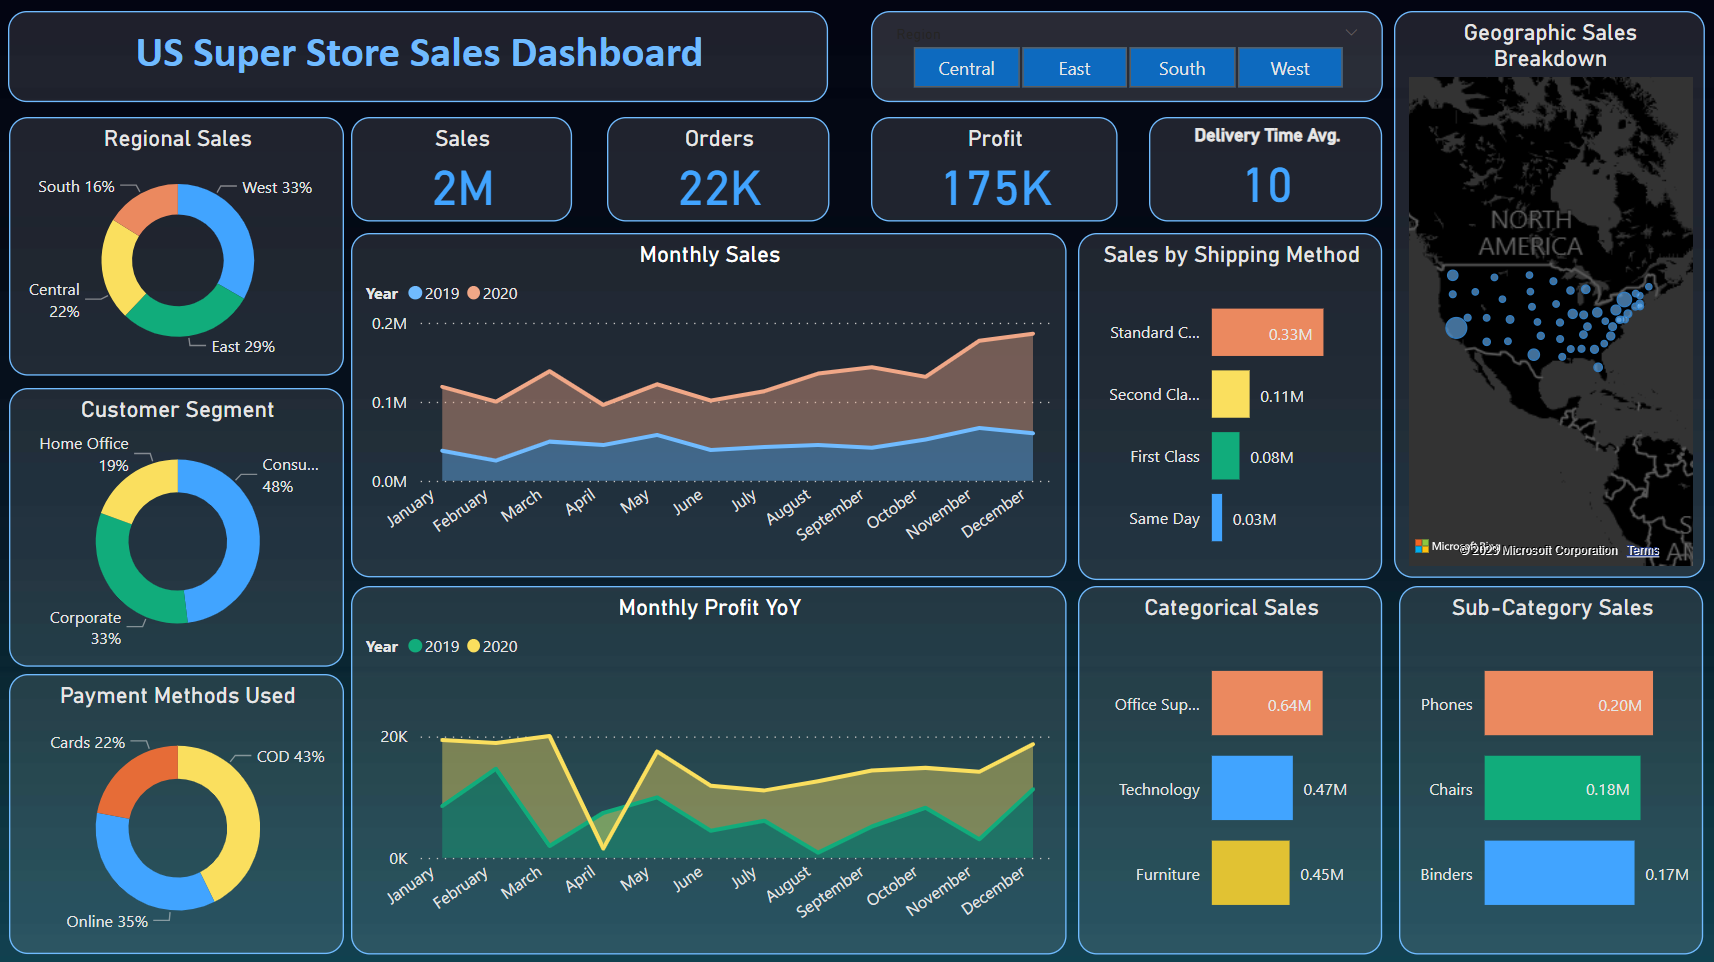

The page's visual inventory and layout, read from the dashboard file:
{"tool":"powerbi","page":{"name":"Page 1","canvas":[1280,720],"ordinal":0},"visuals":[{"type":"clusteredBarChart","title":"Categorical Sales","fields":{"Category":["SuperStore_Sales_Dataset.Category"],"Y":["Sum(SuperStore_Sales_Dataset.Sales)"]},"box":[805.4,438,227.3,274.6],"z":0},{"type":"clusteredBarChart","title":"Sub-Category Sales","fields":{"Category":["SuperStore_Sales_Dataset.Sub-Category"],"Y":["Sum(SuperStore_Sales_Dataset.Sales)"]},"box":[1045,438,227.3,274.6],"z":1000},{"type":"clusteredBarChart","title":"Sales by Shipping Method","fields":{"Category":["SuperStore_Sales_Dataset.Ship Mode"],"Y":["Sum(SuperStore_Sales_Dataset.Sales)"]},"box":[805.4,174.5,227.3,259.2],"z":2000},{"type":"stackedAreaChart","title":"Monthly Sales","fields":{"Y":["Sum(SuperStore_Sales_Dataset.Sales)"],"Category":["SuperStore_Sales_Dataset.Order Date.Variation.Date Hierarchy.Month"],"Series":["SuperStore_Sales_Dataset.Order Date.Variation.Date Hierarchy.Year"]},"box":[262.9,174.5,533.9,256.8],"z":3000},{"type":"stackedAreaChart","title":"Monthly Profit YoY","fields":{"Category":["SuperStore_Sales_Dataset.Order Date.Variation.Date Hierarchy.Month"],"Y":["Sum(SuperStore_Sales_Dataset.Profit)"],"Series":["SuperStore_Sales_Dataset.Order Date.Variation.Date Hierarchy.Year"]},"box":[262.9,438,533.9,274.6],"z":4000},{"type":"map","title":"Geographic Sales Breakdown","fields":{"Category":["SuperStore_Sales_Dataset.State"],"Size":["Sum(SuperStore_Sales_Dataset.Sales)"]},"box":[1040.7,8.6,231.6,422.7],"z":5000},{"type":"donutChart","title":"Customer Segment","fields":{"Category":["SuperStore_Sales_Dataset.Segment"],"Y":["Sum(SuperStore_Sales_Dataset.Sales)"]},"box":[7.4,290,250,208.3],"z":6000},{"type":"donutChart","title":"Payment Methods Used","fields":{"Category":["SuperStore_Sales_Dataset.Payment Mode"],"Y":["Sum(SuperStore_Sales_Dataset.Sales)"]},"box":[7.4,503.8,250,208.9],"z":7000},{"type":"slicer","fields":{"Values":["SuperStore_Sales_Dataset.Region"]},"box":[651,9,382,68],"z":8000},{"type":"textbox","box":[7,9,612,68],"z":9000},{"type":"card","title":"Sales","fields":{"Values":["Sum(SuperStore_Sales_Dataset.Sales)"]},"box":[262.9,87.8,164.6,78],"z":10000},{"type":"card","title":"Orders","fields":{"Values":["Sum(SuperStore_Sales_Dataset.Quantity)"]},"box":[453.4,87.8,165.9,78],"z":11000},{"type":"card","title":"Profit","fields":{"Values":["Sum(SuperStore_Sales_Dataset.Profit)"]},"box":[650.6,87.8,183.7,78],"z":12000},{"type":"card","title":"Delivery Time Avg.","fields":{"Values":["Avg(SuperStore_Sales_Dataset.AvgDelivery)"]},"box":[858.2,87.8,174.5,78],"z":13000},{"type":"donutChart","title":"Regional Sales","fields":{"Category":["SuperStore_Sales_Dataset.Region"],"Y":["Sum(SuperStore_Sales_Dataset.Sales)"]},"box":[7.4,87.8,250,192.9],"z":14000}]}

Visuals, with their boxes in screenshot pixels (x1, y1, x2, y2), scaled from the page's 1280x720 canvas onto the 1714x962 screenshot:
"Categorical Sales" clusteredBarChart: <box>1078,585,1383,952</box>
"Sub-Category Sales" clusteredBarChart: <box>1399,585,1704,952</box>
"Sales by Shipping Method" clusteredBarChart: <box>1078,233,1383,579</box>
"Monthly Sales" stackedAreaChart: <box>352,233,1067,576</box>
"Monthly Profit YoY" stackedAreaChart: <box>352,585,1067,952</box>
"Geographic Sales Breakdown" map: <box>1394,11,1704,576</box>
"Customer Segment" donutChart: <box>10,387,345,666</box>
"Payment Methods Used" donutChart: <box>10,673,345,952</box>
slicer - SuperStore_Sales_Dataset.Region: <box>872,12,1383,103</box>
textbox: <box>9,12,829,103</box>
"Sales" card: <box>352,117,572,222</box>
"Orders" card: <box>607,117,829,222</box>
"Profit" card: <box>871,117,1117,222</box>
"Delivery Time Avg." card: <box>1149,117,1383,222</box>
"Regional Sales" donutChart: <box>10,117,345,375</box>
